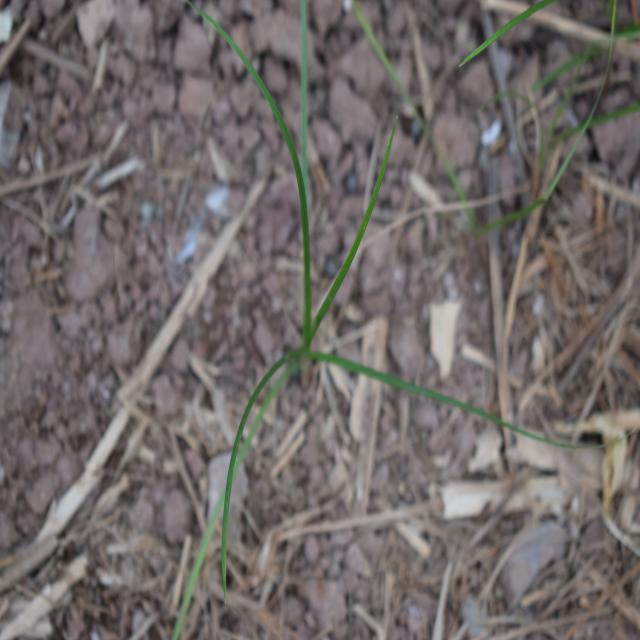sedge: (186, 15, 533, 593)
